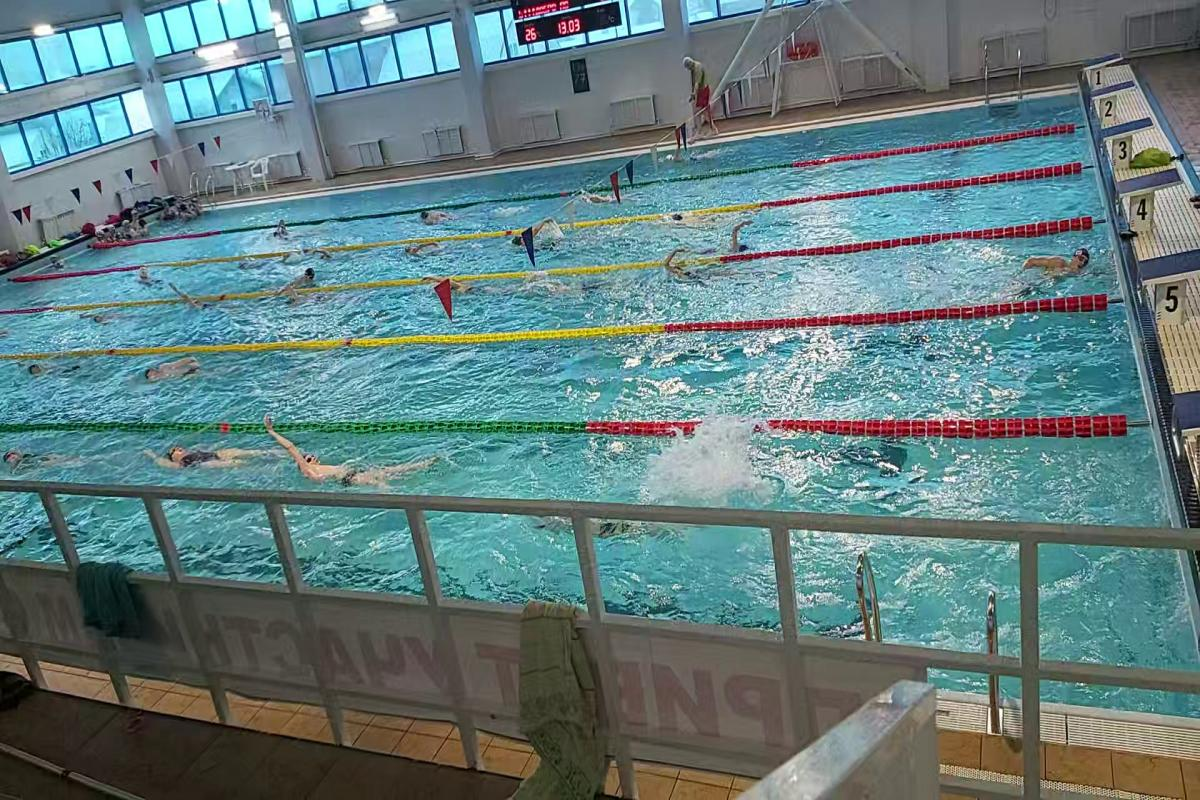swimmer: (263, 418, 445, 494), (131, 433, 261, 471), (1010, 239, 1101, 290), (140, 348, 222, 388), (542, 514, 664, 540), (8, 436, 90, 474), (22, 350, 87, 384), (649, 244, 697, 284), (722, 218, 766, 250), (408, 233, 443, 258), (412, 206, 462, 222), (284, 265, 323, 285), (272, 218, 295, 242)
